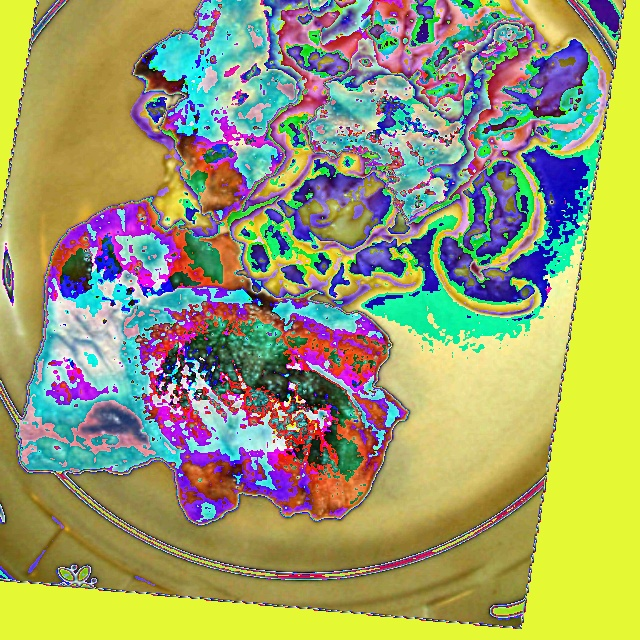background: (15, 0, 608, 527)
